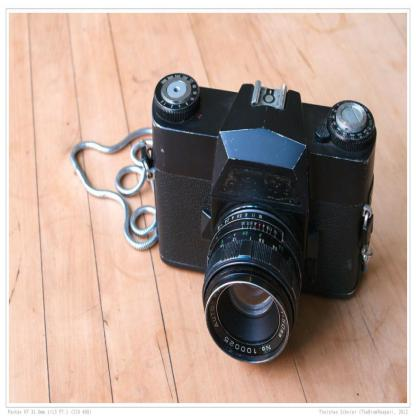Camera: (152, 72, 378, 369)
